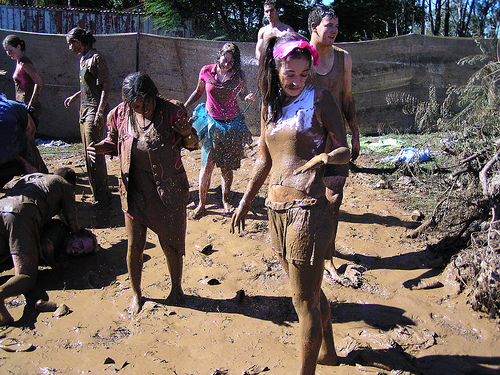without_mask: (275, 50, 312, 99), (122, 82, 160, 120), (309, 10, 340, 49), (63, 32, 89, 57), (3, 37, 25, 62), (216, 48, 238, 72), (263, 2, 281, 23)
